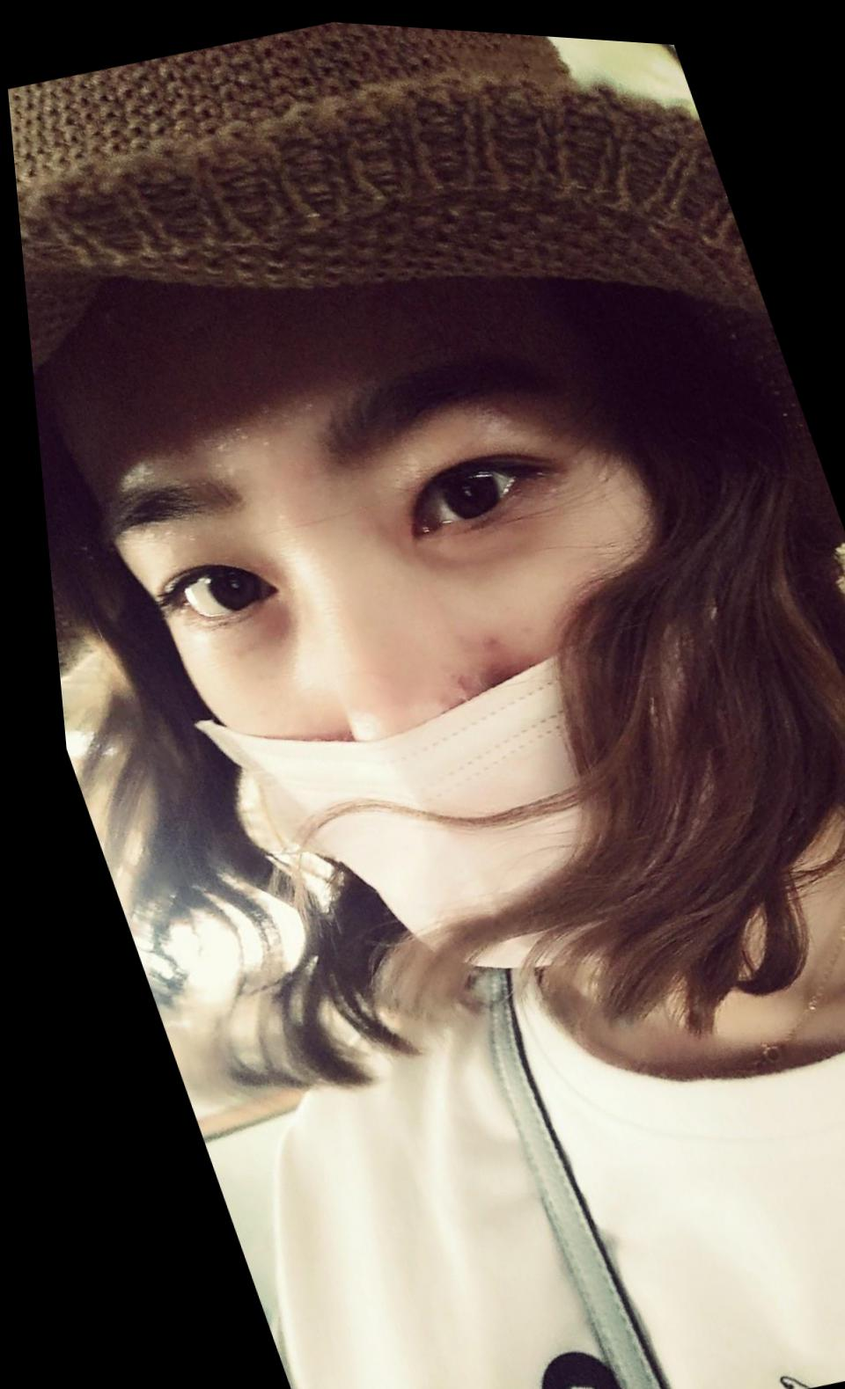WRONG: (29, 221, 845, 1062)
